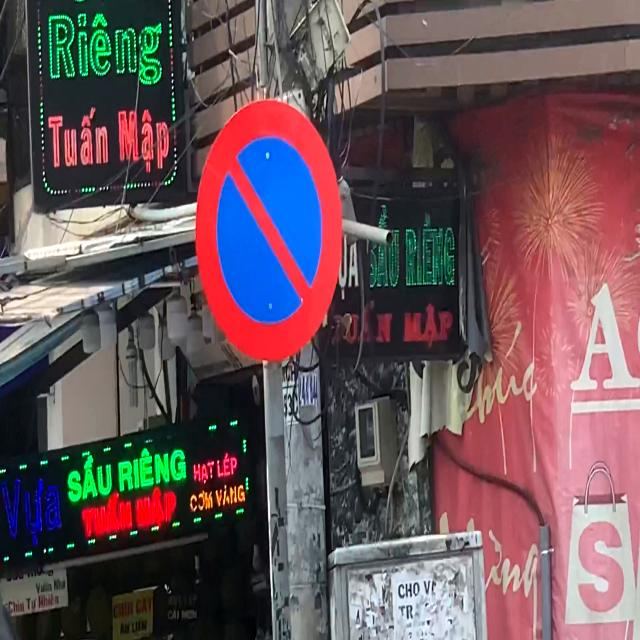P.131a: (195, 97, 342, 366)
